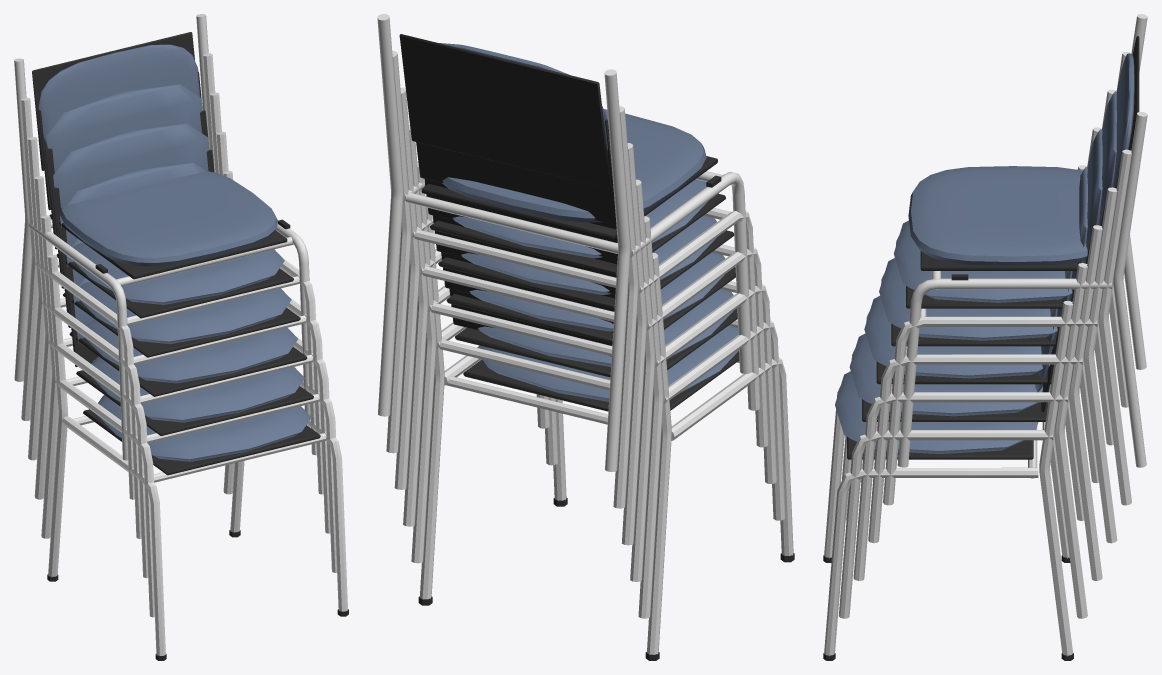
File: Kit_StackChair_Stack6.fbx
3 renders of one model, left to right at view 1: azimuth 30°, elevation 25°; view 2: azimuth 150°, elevation 25°; view 3: azimuth 270°, elevation 25°, orthographic. The views are drawn at different scales.
Visible parts, largest first — view 1: Kit_StackChair_Stack6_LOD0; view 2: Kit_StackChair_Stack6_LOD0; view 3: Kit_StackChair_Stack6_LOD0.
Boxes of the visible parts, x1,y1,x2,y2 form: Kit_StackChair_Stack6_LOD0: [14, 14, 348, 660]; Kit_StackChair_Stack6_LOD0: [377, 14, 794, 660]; Kit_StackChair_Stack6_LOD0: [823, 14, 1147, 660].
Size of what is drawn, in the model's own units: 0.4942 by 1.23 by 0.6612.
